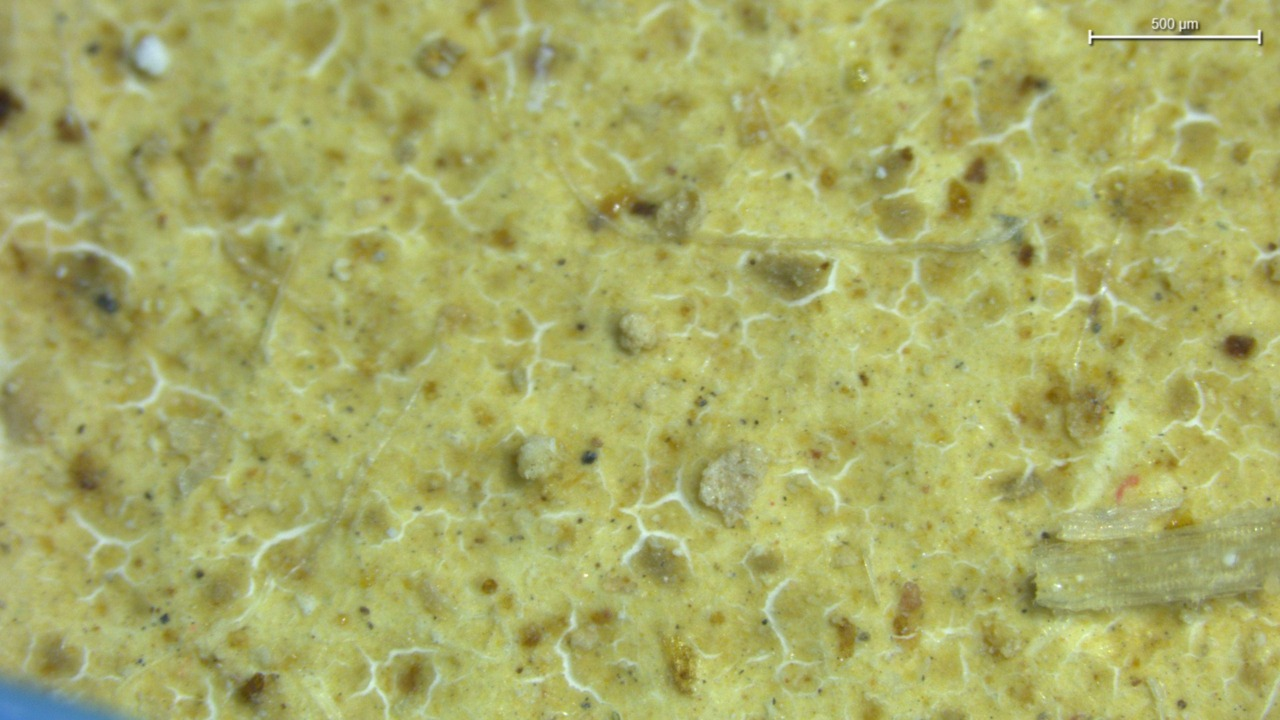microplastic_fragment: (698, 443, 767, 526), (517, 436, 559, 480), (617, 314, 657, 354)
